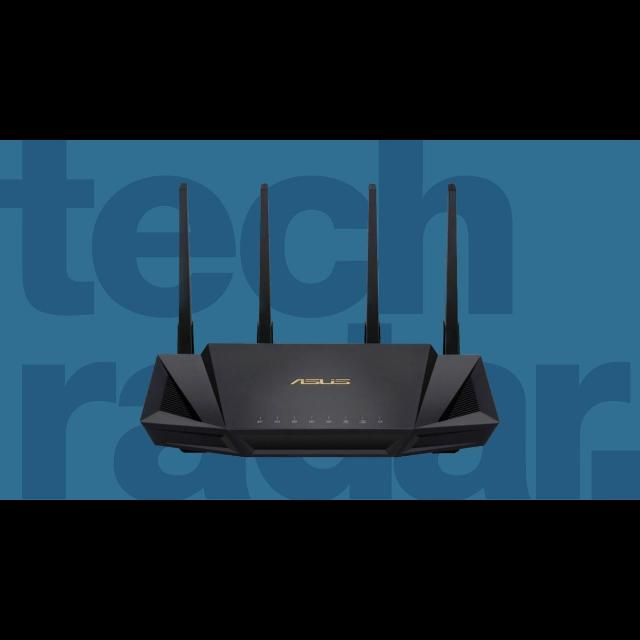Router: (140, 182, 500, 458)
